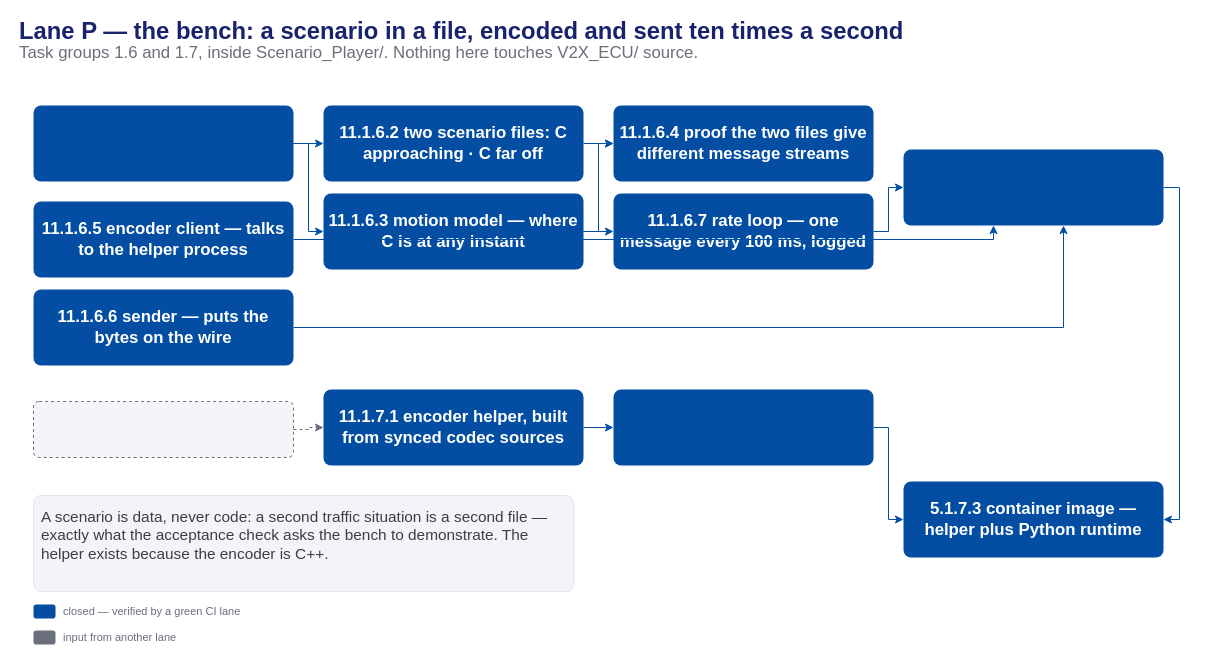
Some shapes in this 1205 by 665 pixel diagram are drawn without their labels. Each missing label, with the box of its shape:
11.1.1.1 · 11.1.8.1 shared pin · its CI lane: (32, 400, 294, 458)
11.1.6.1 config loader — the bench's only env reader: (33, 105, 293, 181)
11.1.6.8 main.py — the entrypoint the platform starts: (903, 149, 1163, 225)
11.1.7.2 byte-for-byte proof against the reference messages: (613, 389, 873, 465)
